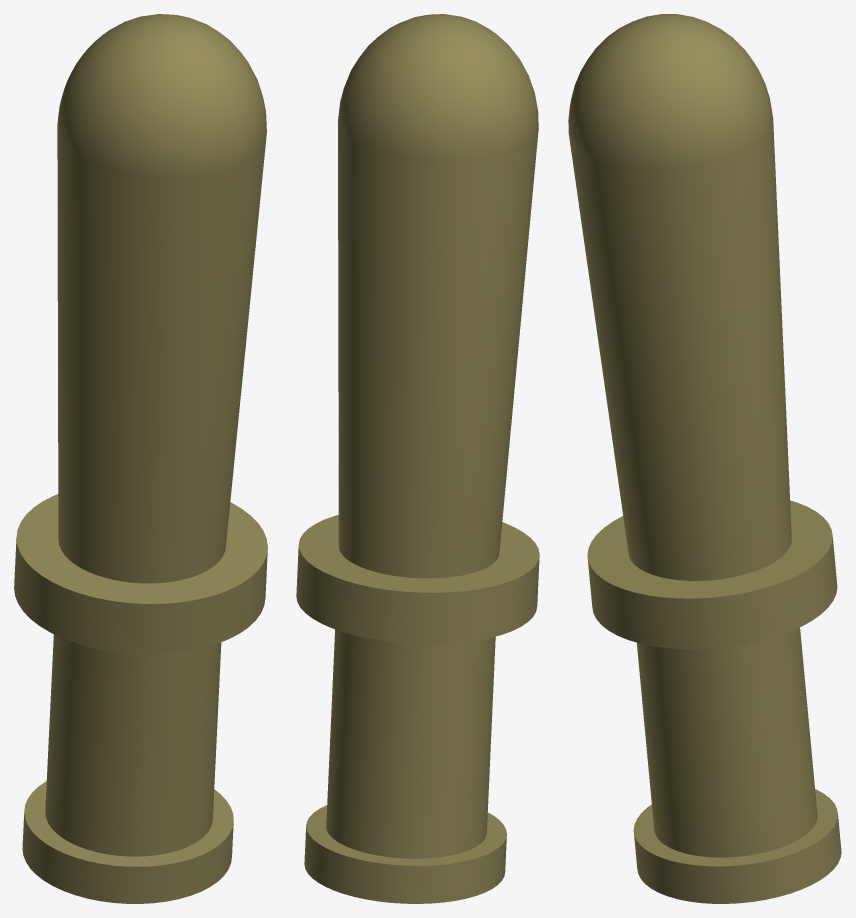
File: soldier-baton.fbx
The picture shows the model from 3 angles, left to right: view 1: azimuth 30°, elevation 25°; view 2: azimuth 150°, elevation 25°; view 3: azimuth 270°, elevation 25°; orthographic projection. The views are drawn at different scales.
Parts seen in each view (by area): view 1: Inner-Node-UntitledModel_dot_io-0.001; view 2: Inner-Node-UntitledModel_dot_io-0.001; view 3: Inner-Node-UntitledModel_dot_io-0.001.
Boxes of the visible parts, x1,y1,x2,y2 form: Inner-Node-UntitledModel_dot_io-0.001: (14,14,267,903); Inner-Node-UntitledModel_dot_io-0.001: (296,14,539,903); Inner-Node-UntitledModel_dot_io-0.001: (568,14,841,903).
Size of the model in its own units: 47 by 178 by 52.15.
